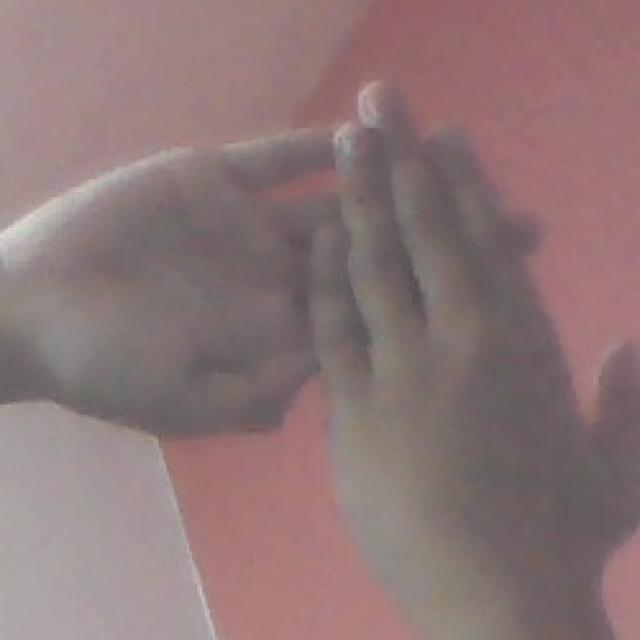Alphabet-H: (21, 72, 640, 568)
